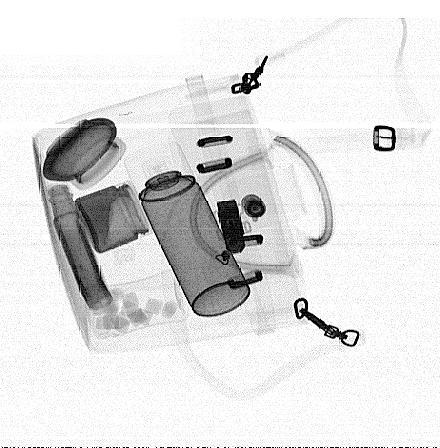Sprayer: (124, 142, 250, 317)
